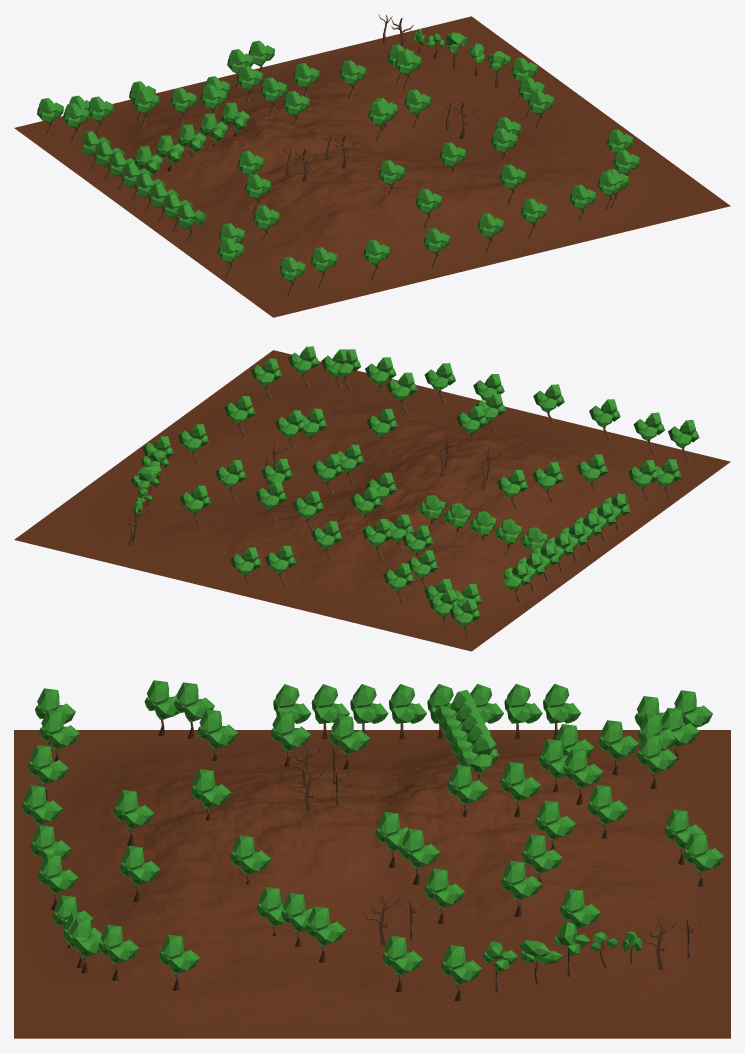
File: my_terrain.fbx
3 renders of one model, top to bottom at view 1: azimuth 30°, elevation 25°; view 2: azimuth 150°, elevation 25°; view 3: azimuth 270°, elevation 25°, orthographic. The views are drawn at different scales.
Parts seen in each view (by area): view 1: Landscape, Tree_3.045, Tree_3.047, Tree_3.009, Tree_3.014, Tree_3.017, Tree_3.002, Tree_3.018, Tree_3.044, Tree_3.016, Tree_3.046, Tree_3.007 (+20 smaller); view 2: Landscape, Tree_3.045, Tree_3.047, Tree_3.009, Tree_3.035, Tree_3.001, Tree_3.010, Tree_3.002, Tree_3.016, Tree_3.017, Tree_3.018, Tree_3.032 (+32 smaller); view 3: Landscape, Tree_3.045, Tree_3.047, Tree_3.020, Tree_3.009, Tree_3, Tree_3.001, Tree_3.002, Tree_3.007, Tree_3.008, Tree_3.022, Tree_3.021 (+38 smaller).
Boxes of the visible parts, x1=… form: Landscape: x1=14, y1=16, x2=730, y2=317; Tree_3.045: x1=81, y1=131, x2=206, y2=242; Tree_3.047: x1=134, y1=102, x2=249, y2=174; Tree_3.009: x1=499, y1=164, x2=526, y2=204; Tree_3.014: x1=521, y1=198, x2=547, y2=238; Tree_3.017: x1=363, y1=239, x2=390, y2=280; Tree_3.002: x1=527, y1=89, x2=554, y2=129; Tree_3.018: x1=310, y1=247, x2=337, y2=287; Tree_3.044: x1=63, y1=103, x2=89, y2=142; Tree_3.016: x1=423, y1=228, x2=450, y2=268; Tree_3.046: x1=279, y1=256, x2=306, y2=296; Tree_3.007: x1=415, y1=188, x2=442, y2=228; Landscape: x1=14, y1=350, x2=730, y2=651; Tree_3.045: x1=503, y1=493, x2=630, y2=602; Tree_3.047: x1=418, y1=495, x2=547, y2=556; Tree_3.009: x1=386, y1=372, x2=417, y2=413; Tree_3.035: x1=292, y1=491, x2=323, y2=531; Tree_3.001: x1=178, y1=424, x2=209, y2=464; Tree_3.010: x1=288, y1=346, x2=319, y2=386; Tree_3.002: x1=224, y1=396, x2=255, y2=436; Tree_3.016: x1=533, y1=384, x2=564, y2=424; Tree_3.017: x1=589, y1=399, x2=620, y2=439; Tree_3.018: x1=633, y1=412, x2=664, y2=453; Tree_3.032: x1=628, y1=460, x2=659, y2=500; Landscape: x1=14, y1=730, x2=730, y2=1038; Tree_3.045: x1=273, y1=683, x2=580, y2=739; Tree_3.047: x1=433, y1=690, x2=499, y2=784; Tree_3.020: x1=501, y1=860, x2=541, y2=916; Tree_3.009: x1=119, y1=845, x2=160, y2=902; Tree_3: x1=441, y1=945, x2=481, y2=1001; Tree_3.001: x1=382, y1=935, x2=422, y2=992; Tree_3.002: x1=305, y1=906, x2=345, y2=962; Tree_3.007: x1=113, y1=789, x2=154, y2=845; Tree_3.008: x1=159, y1=934, x2=199, y2=990; Tree_3.022: x1=399, y1=828, x2=440, y2=884; Tree_3.021: x1=424, y1=868, x2=464, y2=924.
Bounding box in the file's own units: 865 × 120 × 848.
